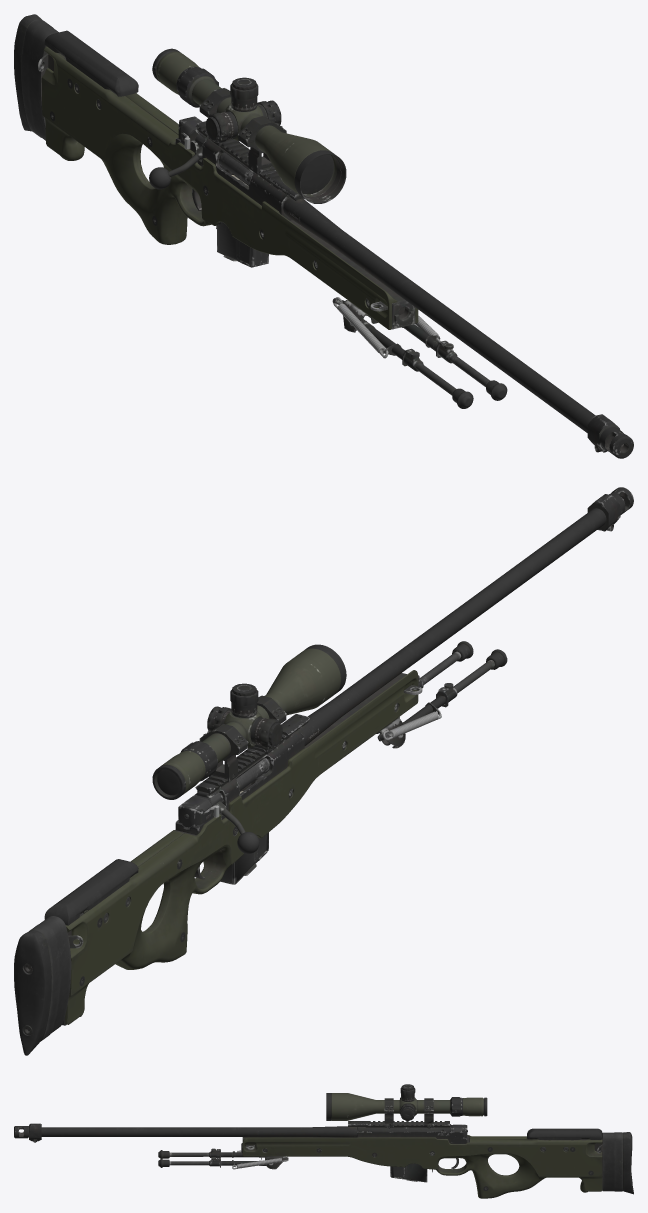
The model's file is awp_cs2.glb.
3 renders of one model, top to bottom at view 1: azimuth 30°, elevation 25°; view 2: azimuth 150°, elevation 25°; view 3: azimuth 270°, elevation 25°, orthographic. The views are drawn at different scales.
Parts seen in each view (by area): view 1: AWP_CS2_weapon_snip_awp_0; view 2: AWP_CS2_weapon_snip_awp_0; view 3: AWP_CS2_weapon_snip_awp_0.
Boxes of the visible parts, x1=… form: AWP_CS2_weapon_snip_awp_0: x1=14, y1=14, x2=633, y2=458; AWP_CS2_weapon_snip_awp_0: x1=14, y1=487, x2=633, y2=1055; AWP_CS2_weapon_snip_awp_0: x1=14, y1=1084, x2=633, y2=1198.
Size of the model in its own units: 0.113 by 0.2667 by 1.36.
1 material, 1 textured.
